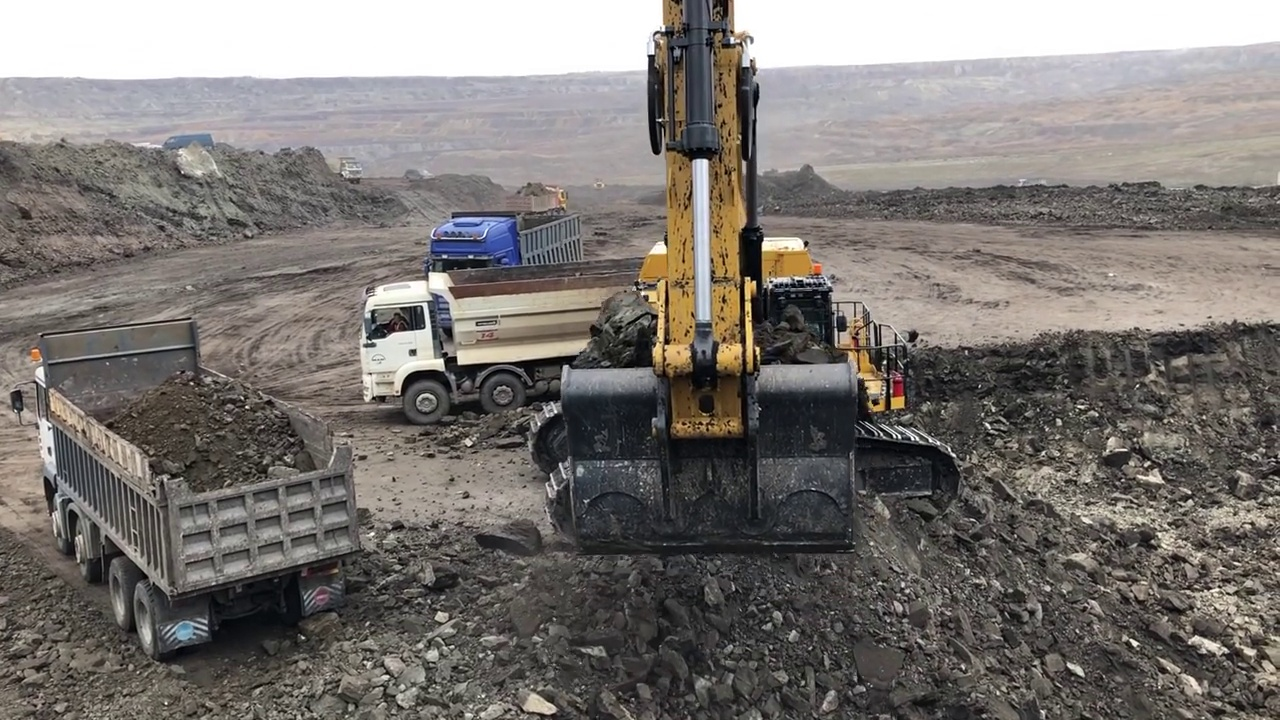excavator: (528, 1, 966, 546)
truck: (13, 316, 359, 661), (360, 267, 733, 421), (425, 205, 591, 300), (507, 180, 571, 216), (324, 150, 366, 183)
